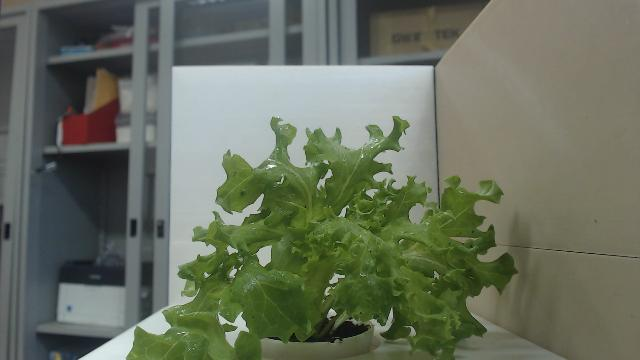Harvest Stage: (125, 112, 520, 360)
